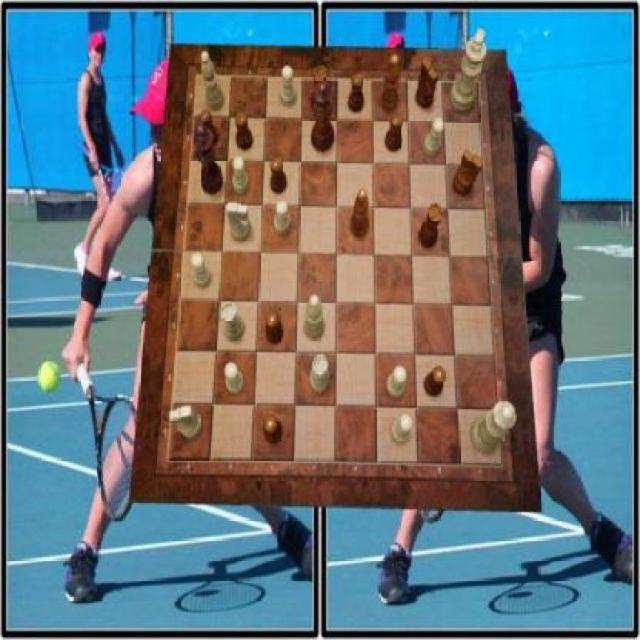bishop: (380, 54, 400, 112), (349, 188, 368, 238)
black-bishop: (192, 119, 222, 194)
black-king: (452, 149, 482, 197), (417, 59, 440, 110)
black-knight: (200, 109, 220, 147), (235, 112, 253, 150), (425, 366, 447, 397), (270, 158, 288, 194), (385, 114, 402, 152), (266, 310, 284, 344), (348, 74, 364, 112), (264, 417, 284, 445)
black-pawn: (310, 78, 334, 152)
black-queen: (418, 203, 442, 249), (311, 66, 330, 114)
black-rook: (202, 51, 226, 111), (304, 294, 326, 339)
white-bishop: (450, 28, 488, 112)
white-king: (170, 406, 202, 440), (228, 203, 252, 242)
white-knight: (423, 118, 444, 157), (191, 252, 211, 288), (232, 155, 250, 193), (391, 414, 413, 444), (226, 361, 246, 394), (388, 366, 408, 399), (280, 65, 296, 106), (274, 200, 291, 235)
white-pawn: (471, 401, 517, 454)
white-queen: (222, 303, 246, 342), (309, 355, 330, 394)
